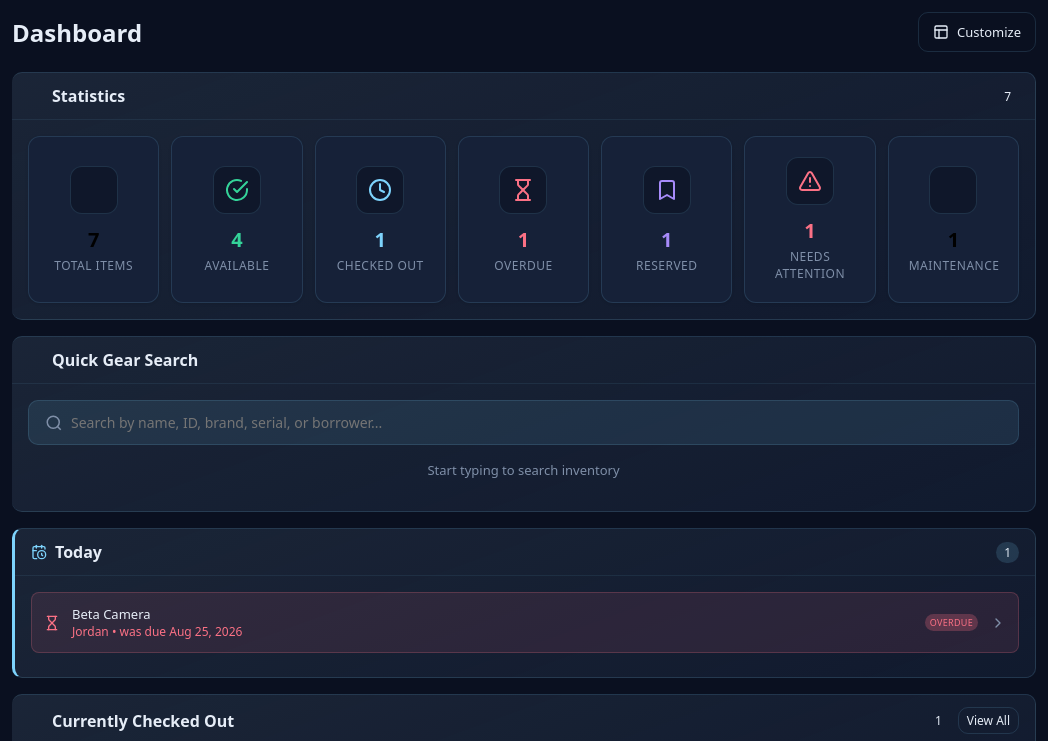
Test: Dashboard quick search › does not crash on items with a null brand
Type "alpha" into the field with placeholder "Search by name, ID, brand, serial, or borrower..." at (536, 422), box [71,413,1002,432]
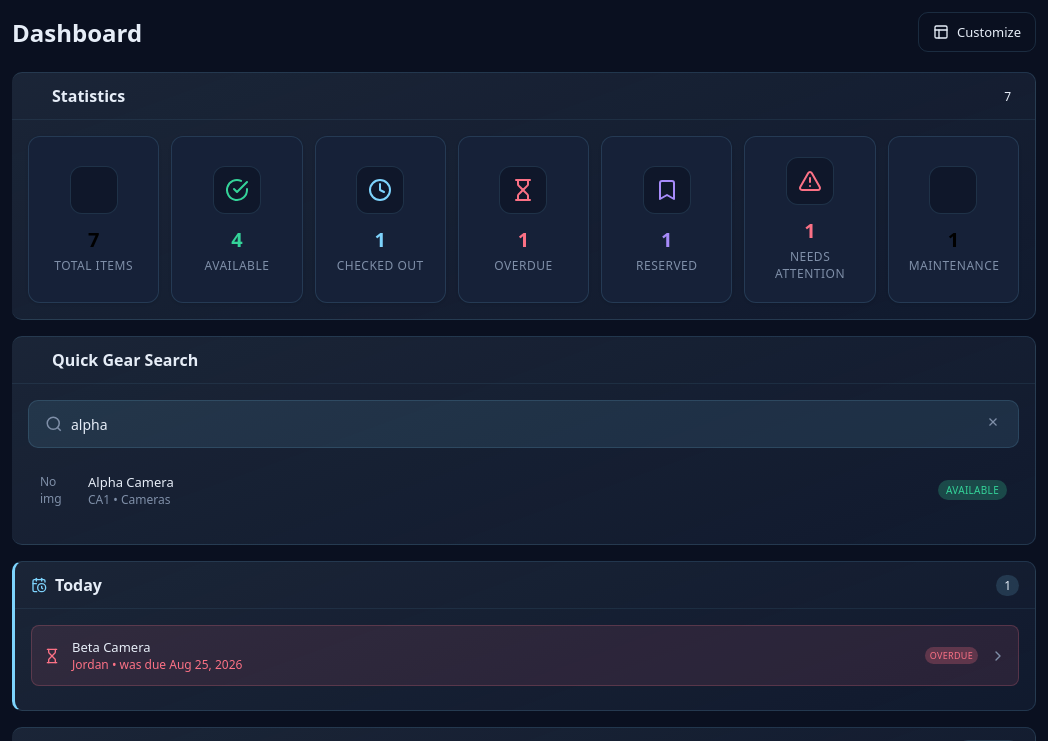
Now the text "Alpha Camera" is shown, box [88,472,174,490]
